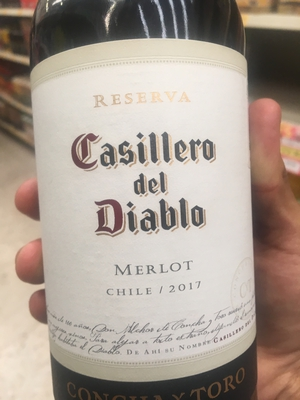casillero del diablo merlot: (21, 6, 264, 396)
